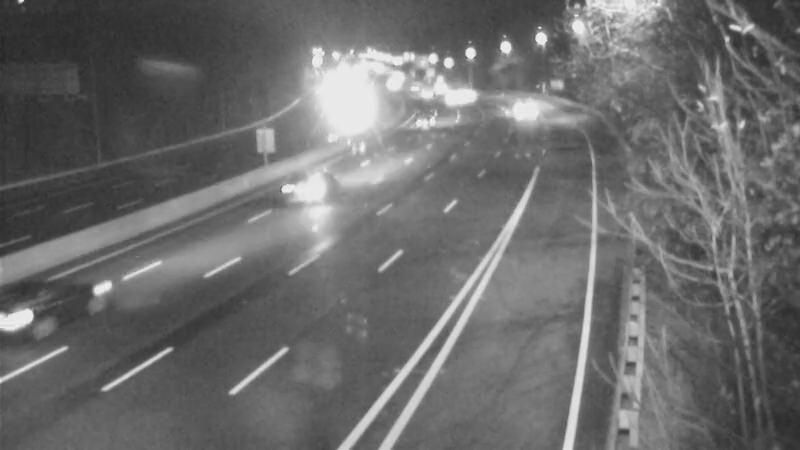vehicle: (1, 251, 109, 361), (264, 143, 344, 223), (412, 61, 462, 111), (398, 67, 448, 117), (427, 74, 477, 124), (441, 69, 491, 119), (501, 84, 551, 134), (402, 97, 452, 147)
